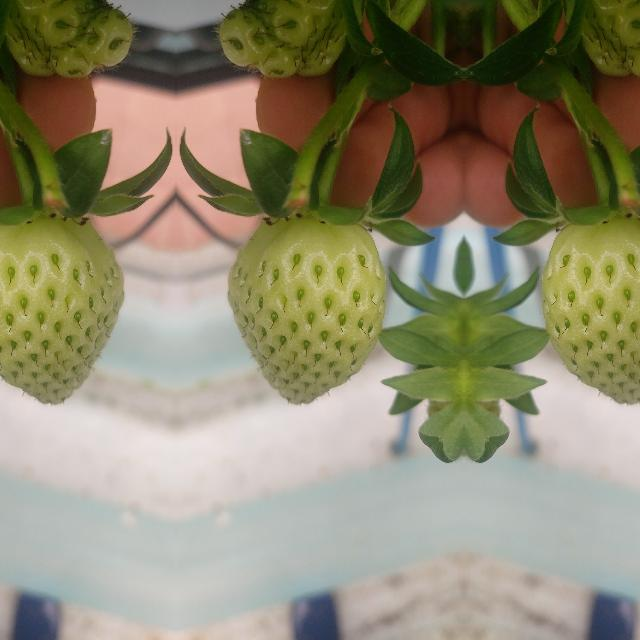Health_25: (226, 213, 384, 404), (0, 213, 124, 404), (542, 213, 640, 404)
